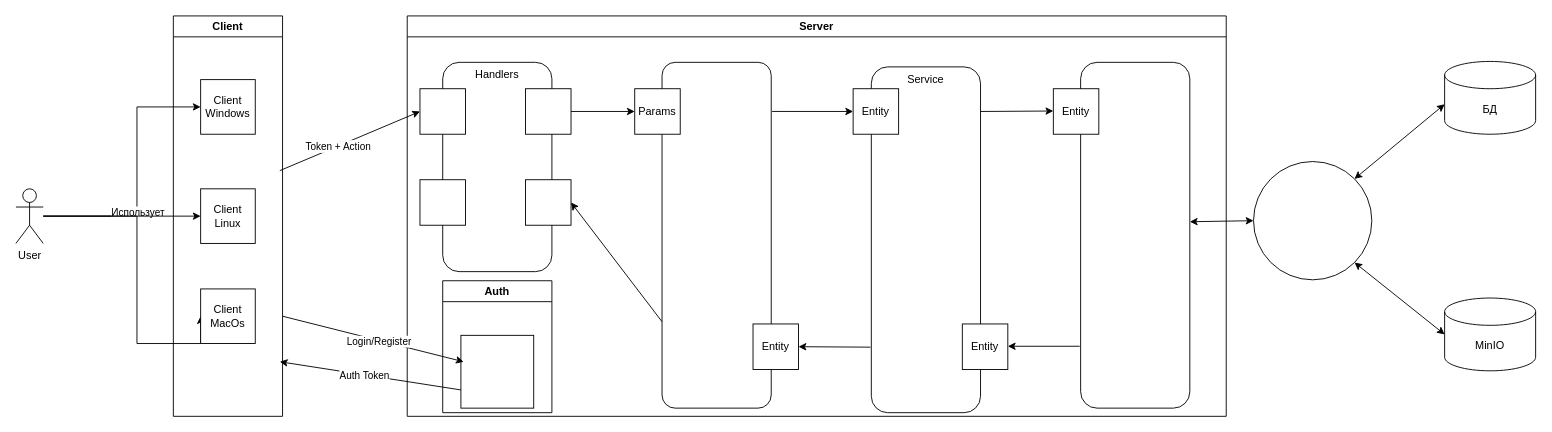
Some shapes in this 1552 by 432 pixel diagram are drawn without their labels. Here are the shapes that lost their labels. From the top down, the centre of each, then its label:
At point (442, 111): "gRPC".
At point (548, 111): "Request".
At point (442, 202): "Another".
At point (548, 202): "Response".
At point (1312, 220): "Infrastructure".
At point (716, 234): "Use Case".
At point (1135, 234): "Adapter".
At point (497, 371): "SSO".
